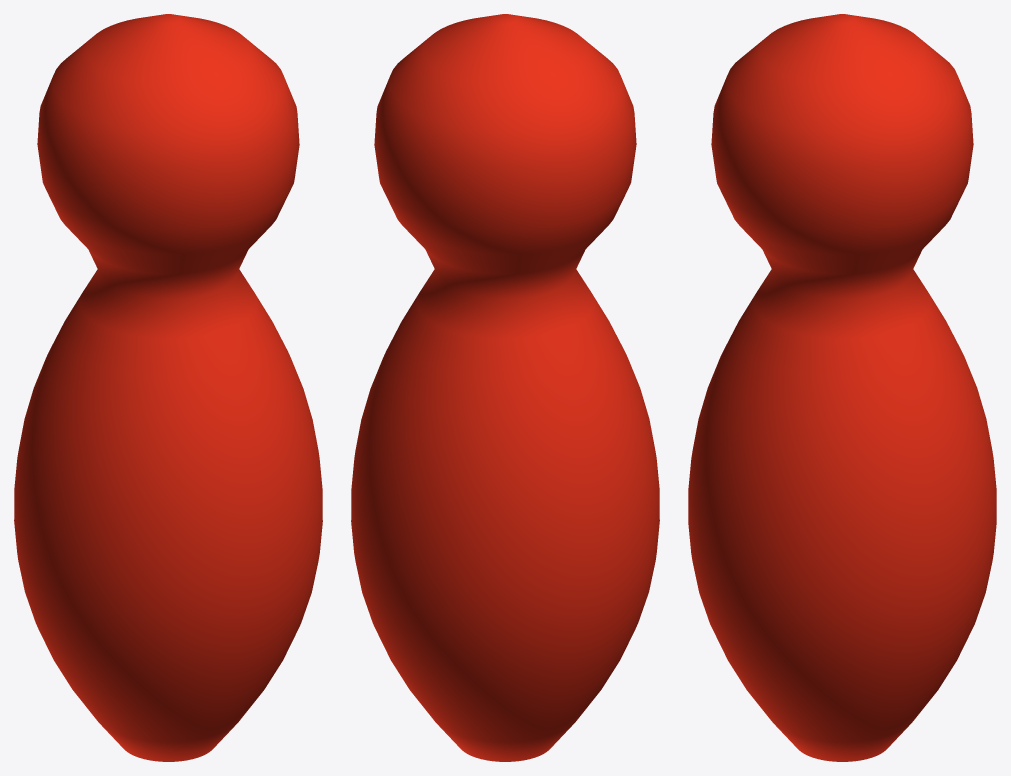
File: enemy.fbx
The picture shows the model from 3 angles, left to right: view 1: azimuth 30°, elevation 25°; view 2: azimuth 150°, elevation 25°; view 3: azimuth 270°, elevation 25°; orthographic projection.
Visible parts, largest first — view 1: Enemy; view 2: Enemy; view 3: Enemy.
Part boxes in pixels (x1,y1,x2,y2): Enemy: [14, 14, 322, 761]; Enemy: [351, 14, 659, 761]; Enemy: [688, 14, 996, 761].
Size of the model in its own units: 0.3945 by 1.02 by 0.3945.
